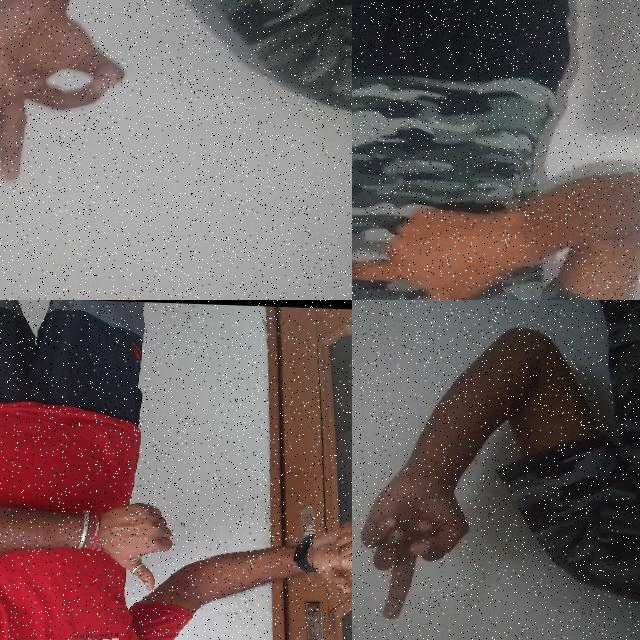Five Fathers: (352, 176, 519, 300)
Middle Finger: (354, 442, 482, 626)
Okay: (0, 0, 137, 198)
Thumbs Up: (80, 488, 185, 599), (288, 511, 352, 601)
